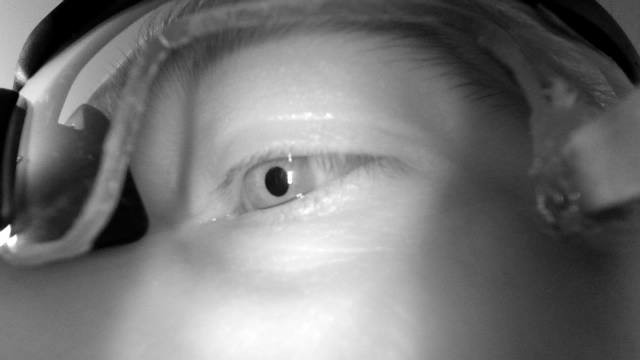pupil: (264, 166, 290, 198)
